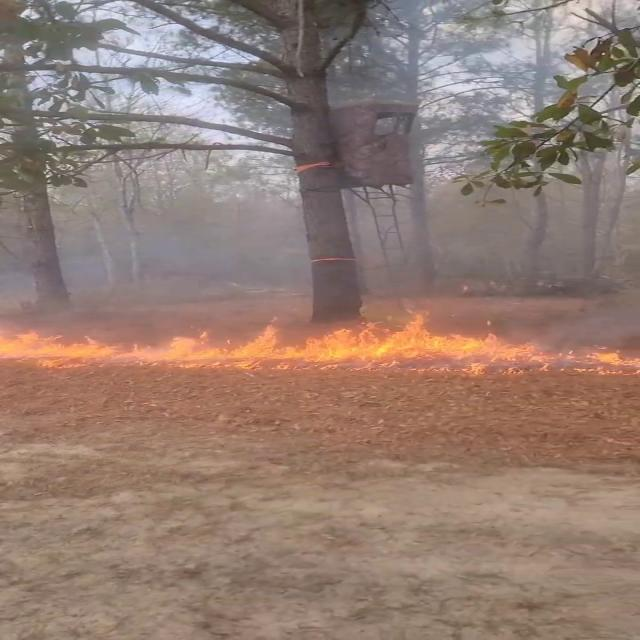Fire: (2, 302, 636, 370)
Smoke: (38, 163, 622, 300)
